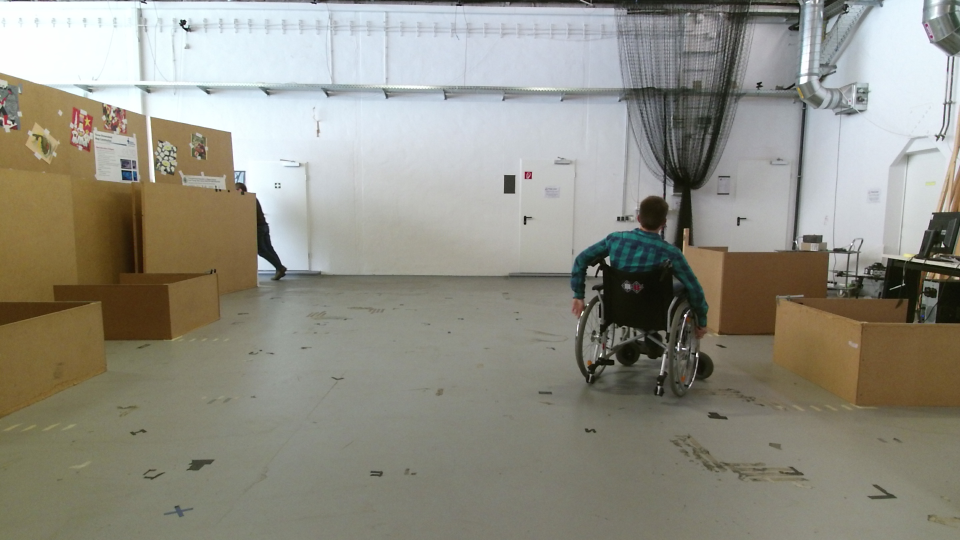wheelchair: (552, 184, 741, 405)
